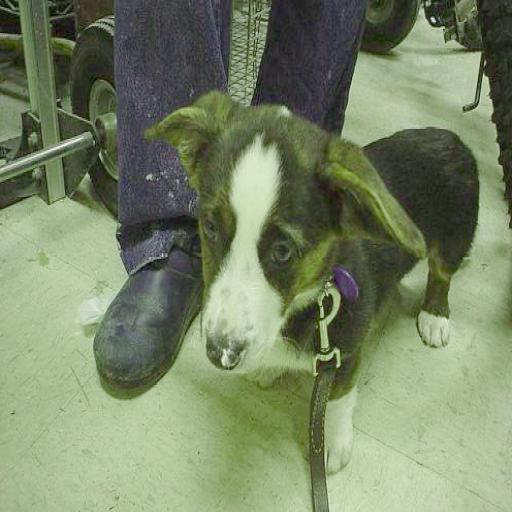dog_face: (153, 104, 420, 361)
